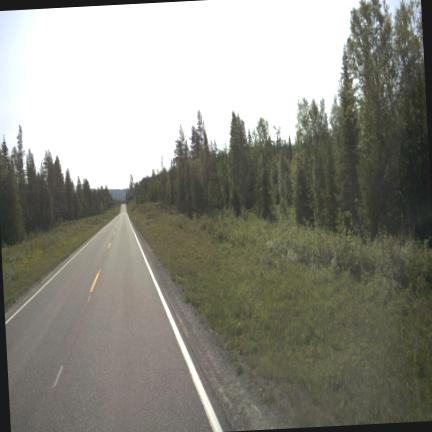Road: (5, 206, 220, 431)
